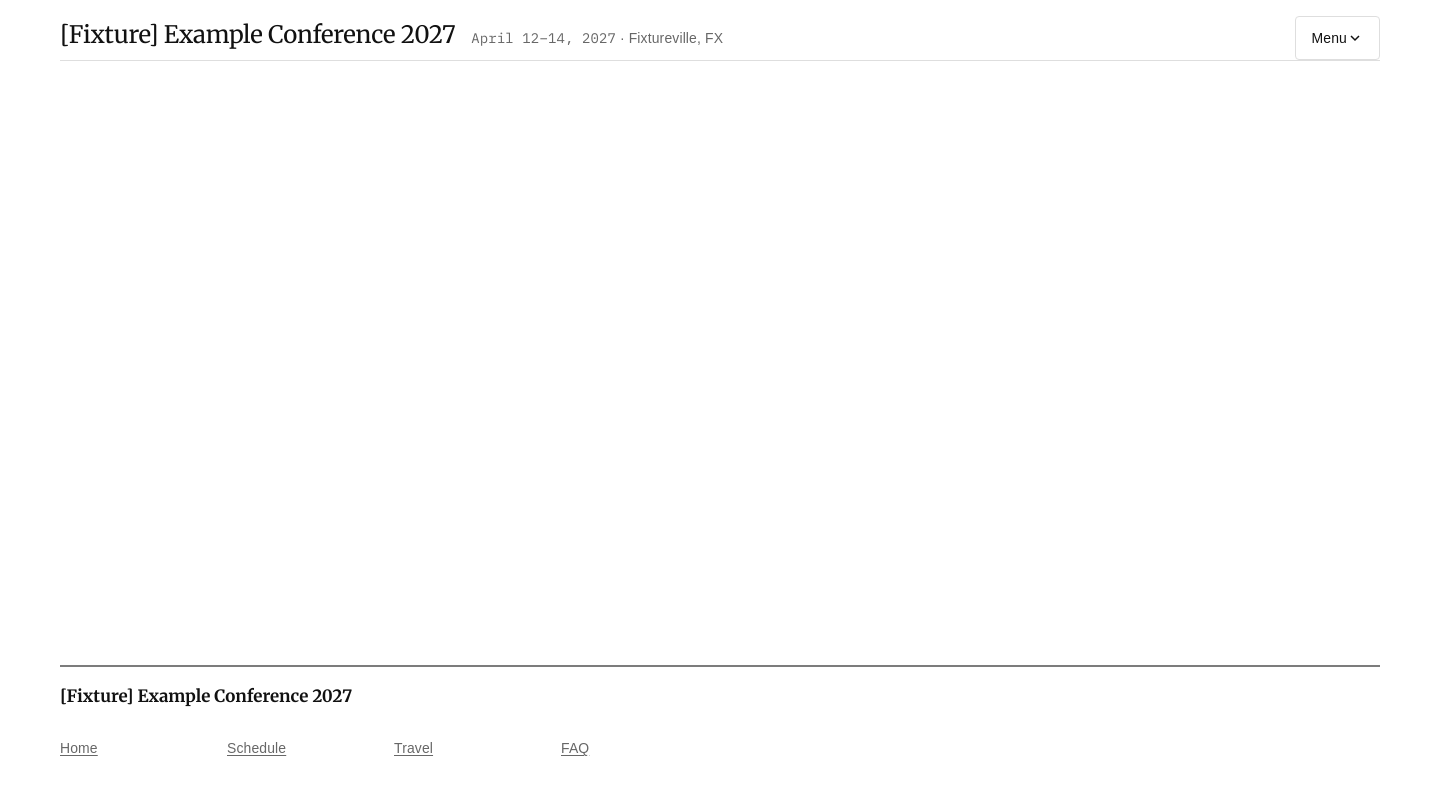
Scenario: Layout mobile navigation › uses one navigation landmark with a labeled disclosure, repeatable close, and Escape focus restoration
Click the button "Menu".
click(1337, 38)  # box [1295, 16, 1380, 60]
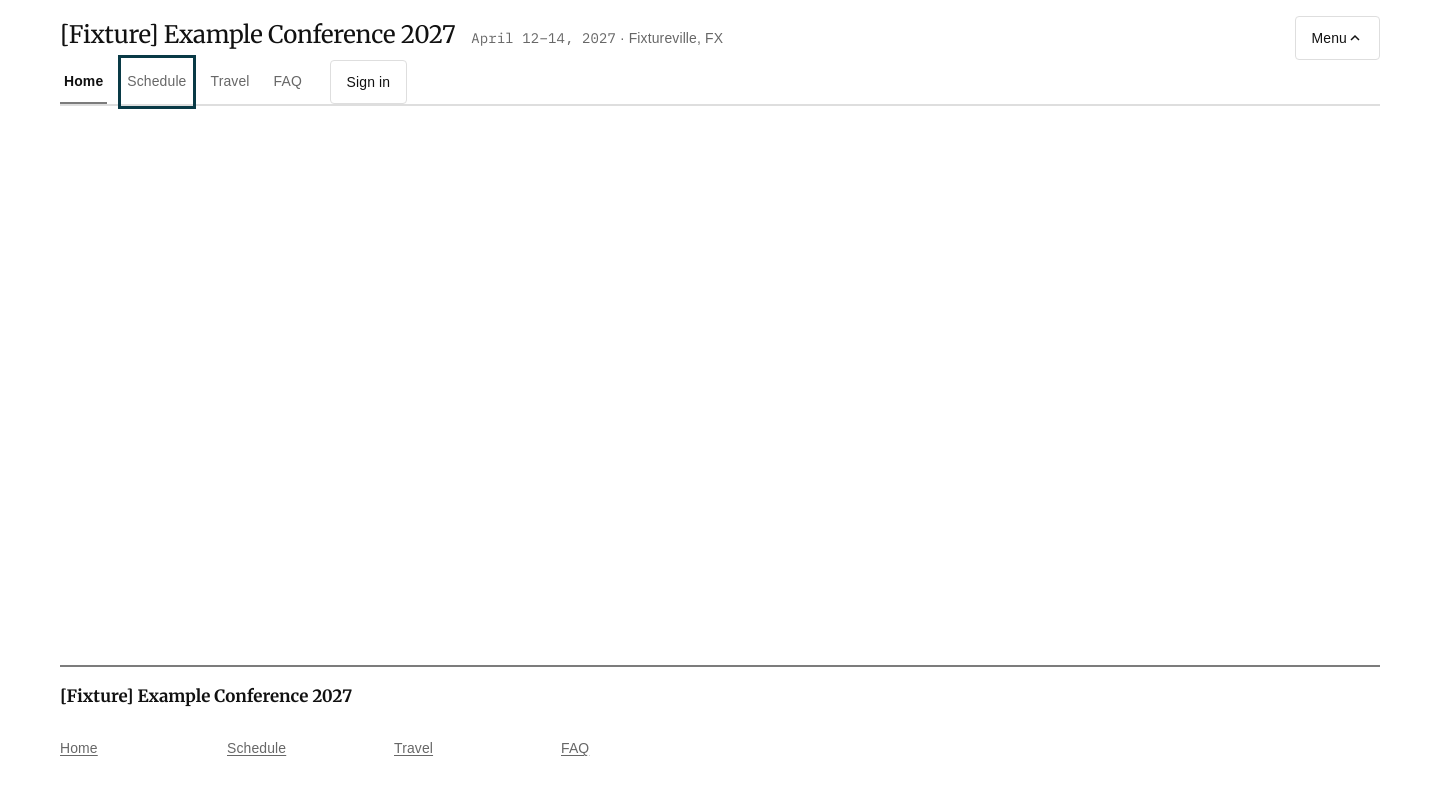
Expected: the button "Menu" is expanded, [1295, 16, 1380, 60]
Press Escape in the link "Schedule" in the row of "Sign in", box [127, 73, 186, 89]
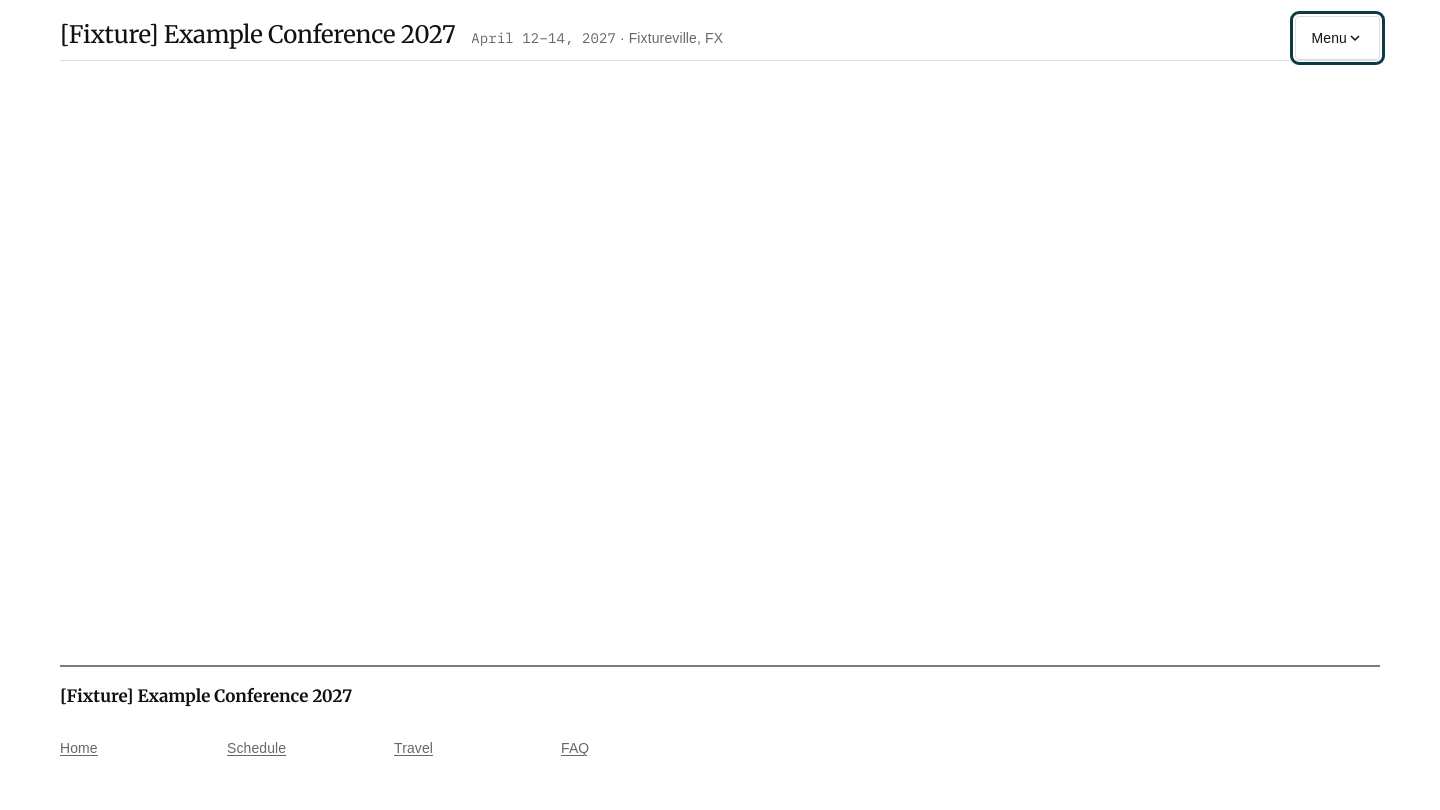
Expected: the button "Menu" is collapsed
Click the button "Menu".
click(1337, 38)  # box [1295, 16, 1380, 60]
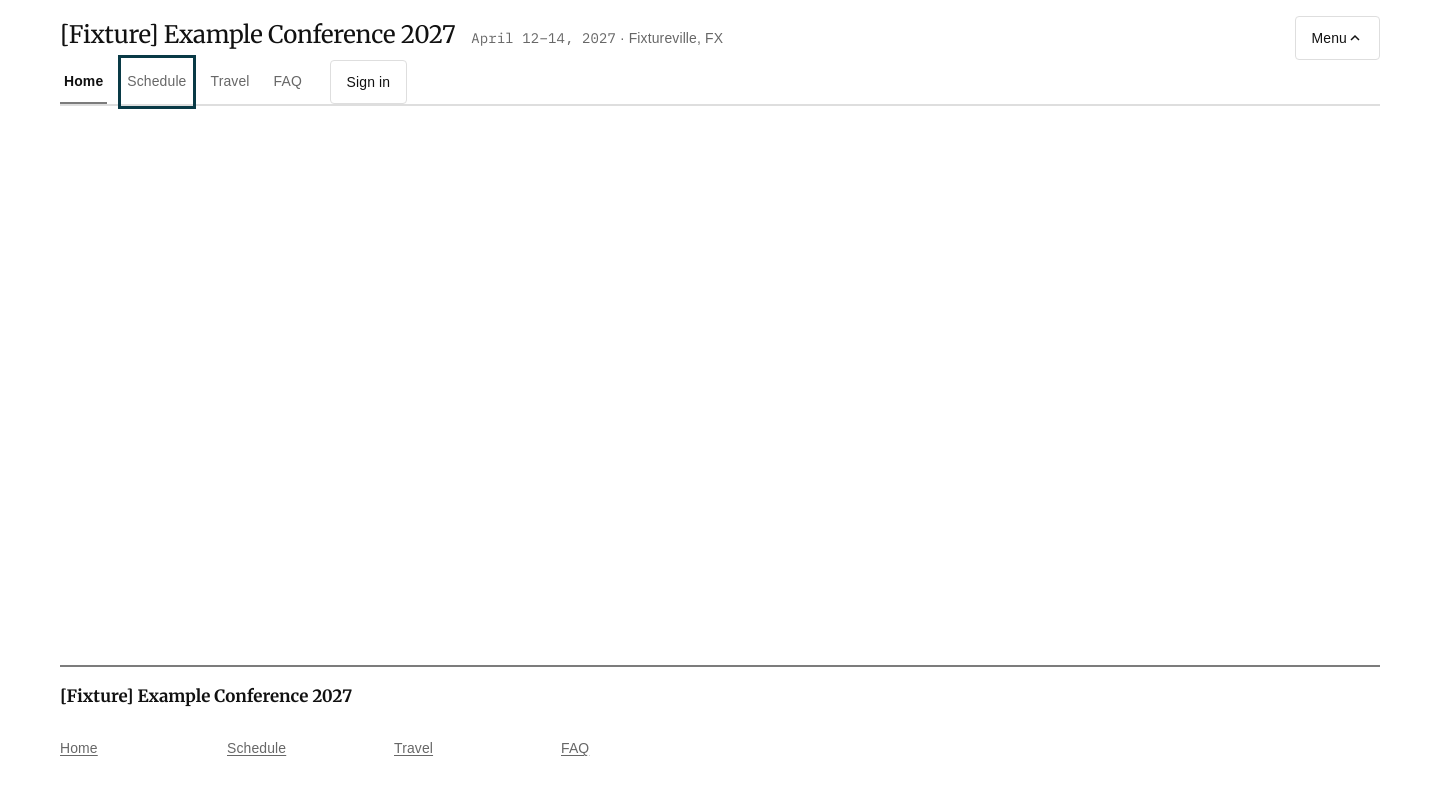
Expected: the button "Menu" is expanded, [1295, 16, 1380, 60]
Press Escape in the link "Schedule" in the row of "Sign in", box [127, 73, 186, 89]
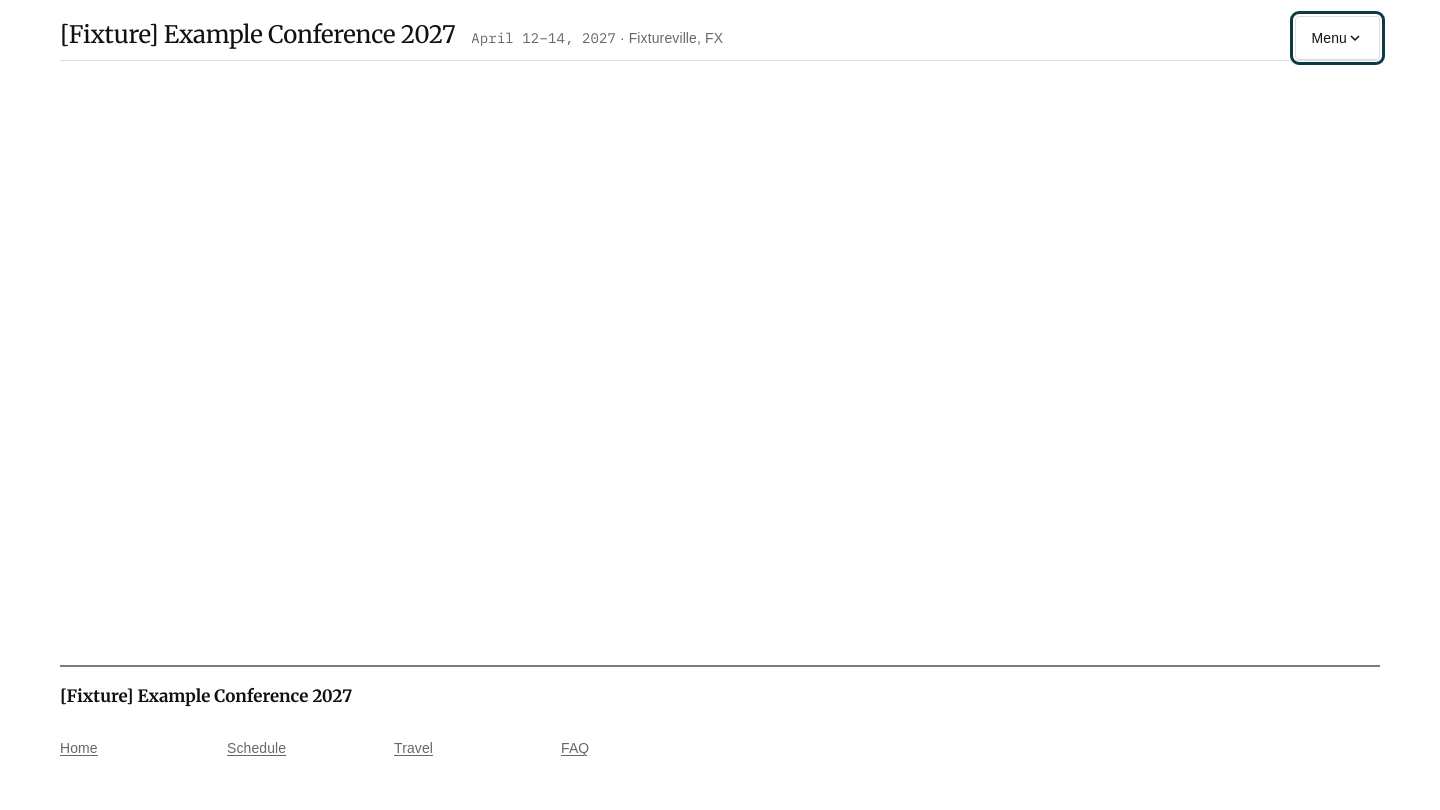
Expected: the button "Menu" is collapsed
Click the button "Menu".
click(1337, 38)  # box [1295, 16, 1380, 60]
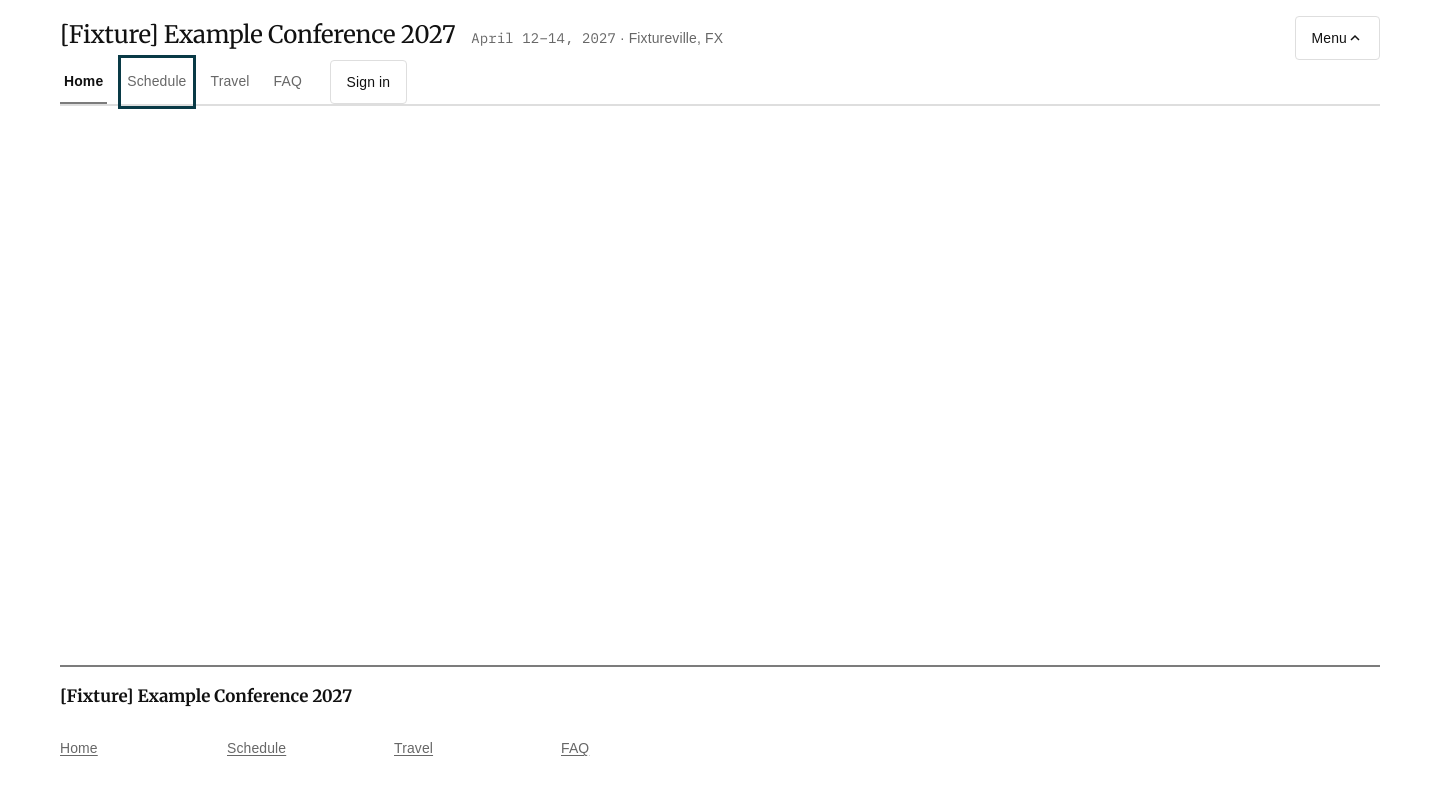
Click the link "Schedule" in the row of "Sign in".
click(157, 81)  # box [127, 73, 186, 89]
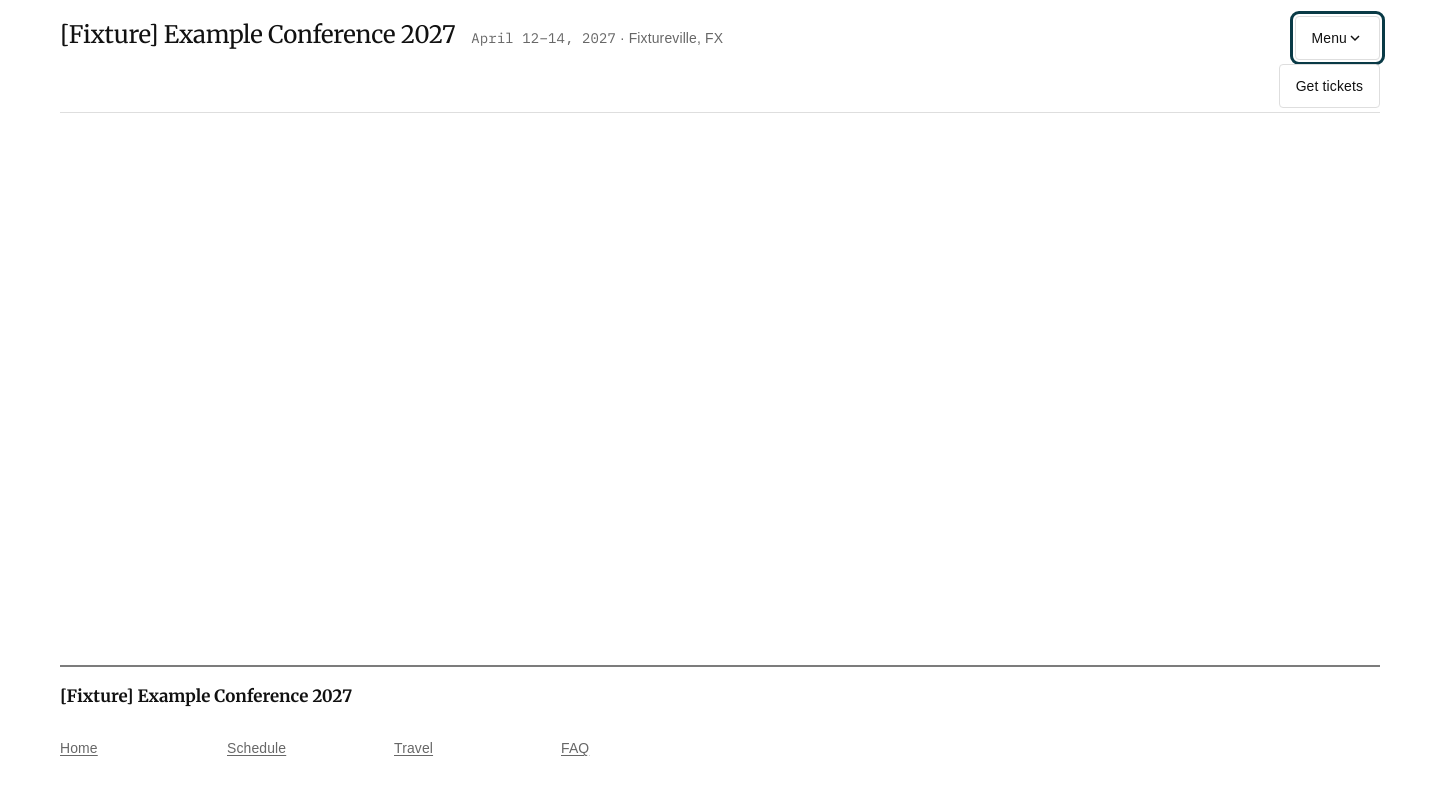
Expected: the button "Menu" is collapsed, [1295, 16, 1380, 60]
